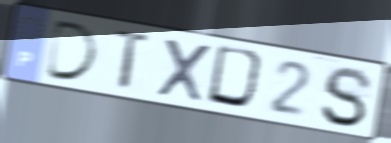2: (266, 59, 316, 120)
D: (204, 42, 271, 114), (42, 18, 102, 84)
S: (318, 64, 375, 130)
T: (112, 26, 154, 92)
X: (154, 35, 214, 106)
